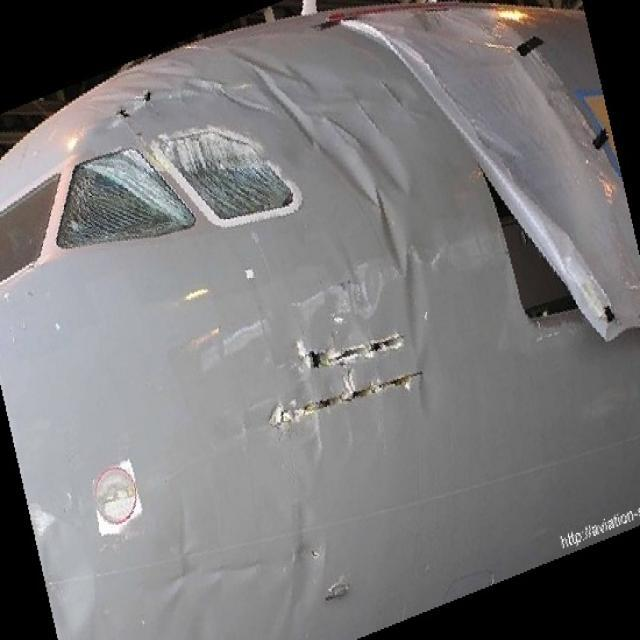crack: (259, 329, 433, 434)
